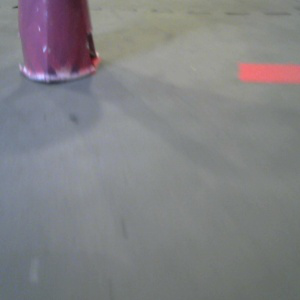middle: (18, 1, 98, 82)
